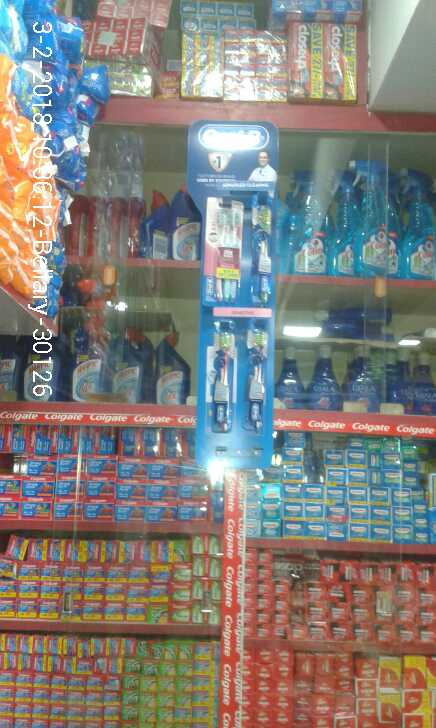oralb: (203, 200, 241, 304), (203, 327, 234, 440), (247, 200, 281, 301), (242, 323, 266, 431)
